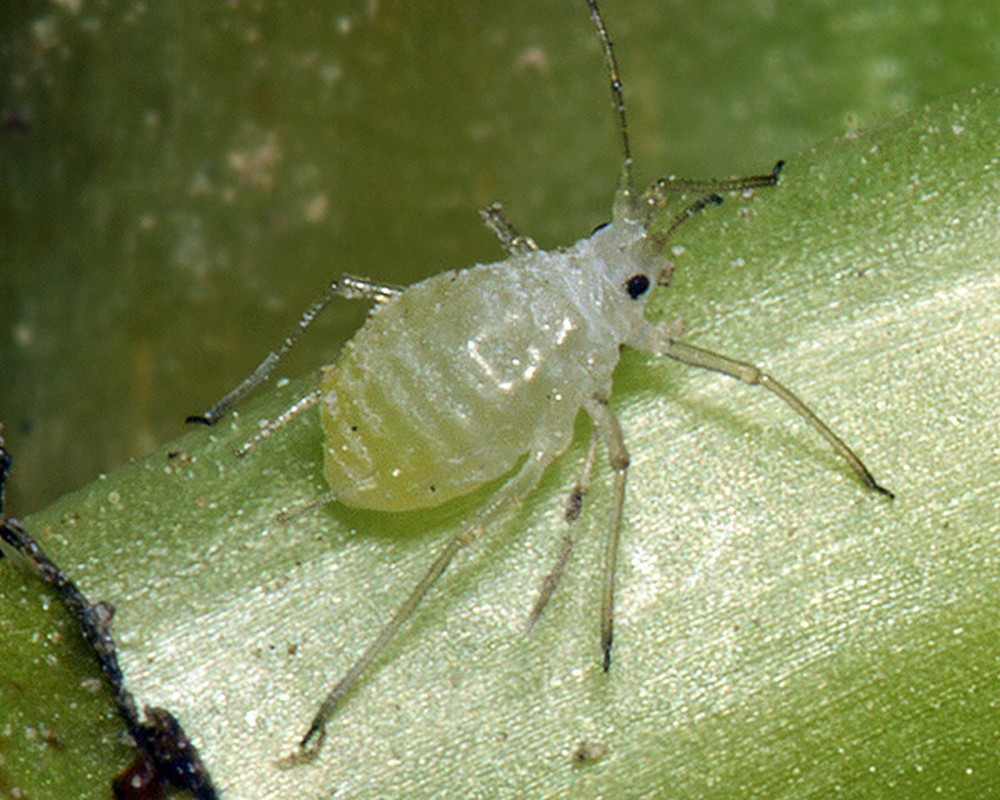Pulgon: (166, 45, 901, 673)
